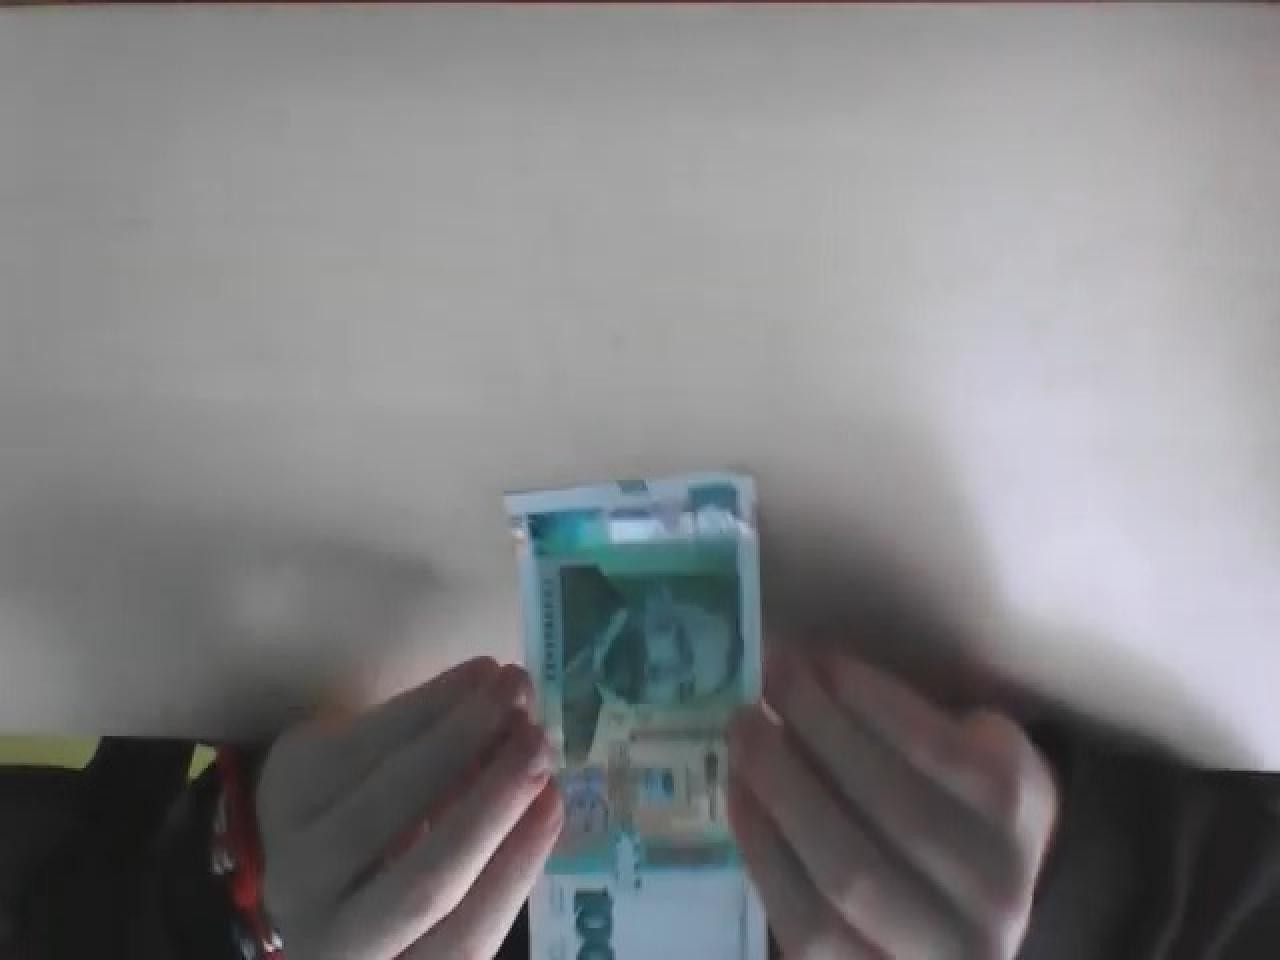100leva: (504, 467, 770, 960)
